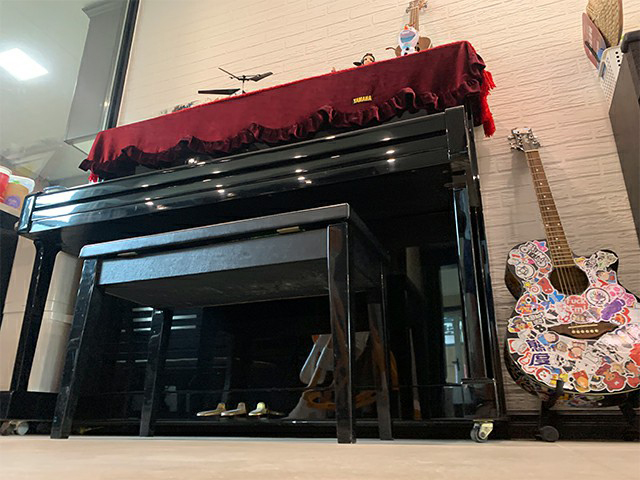stool: (47, 201, 394, 444)
